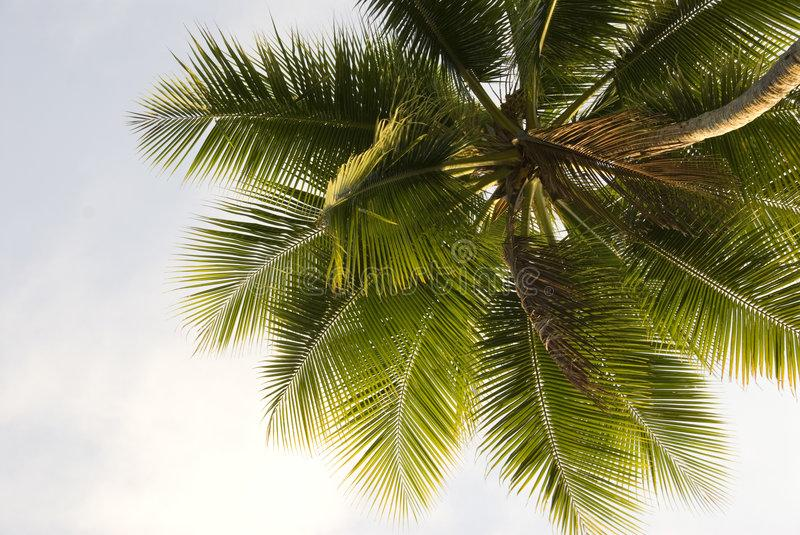coconut_tree: (123, 2, 799, 533)
